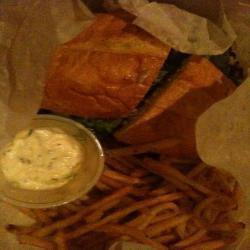burger: (37, 8, 242, 167)
fries: (90, 171, 236, 242)
